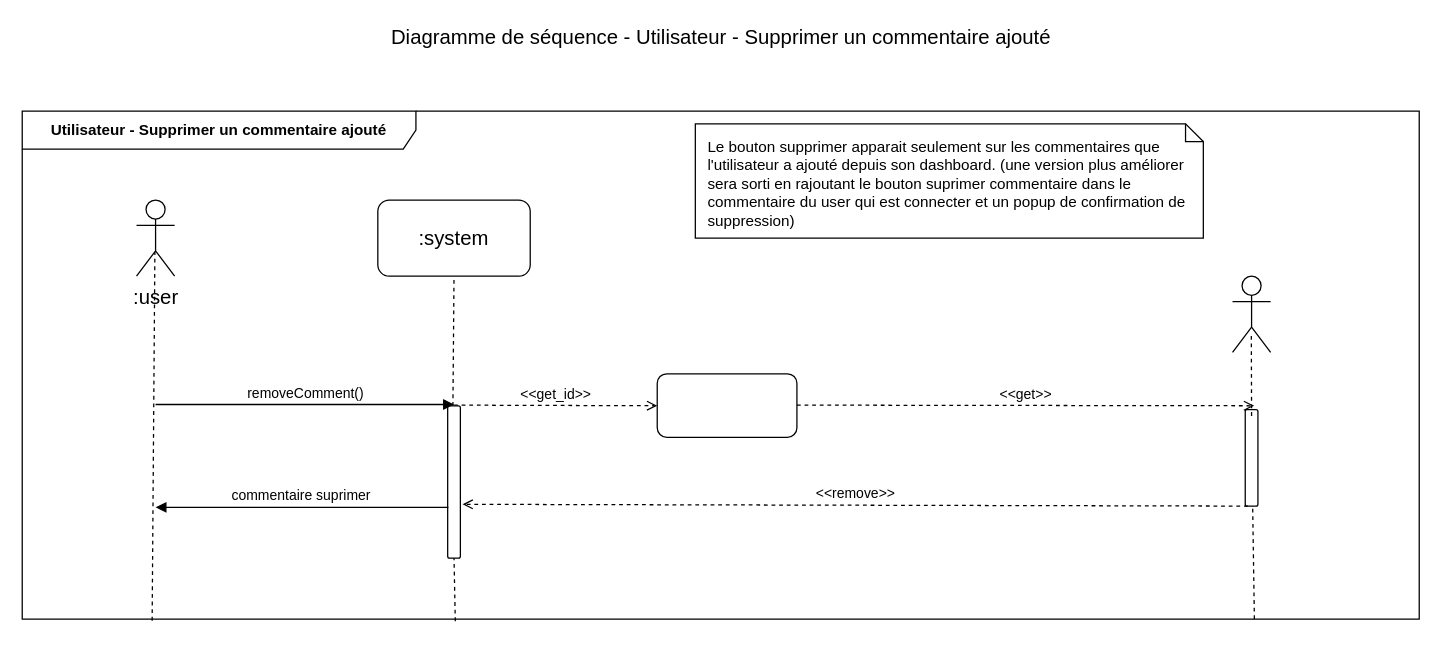
Some shapes in this 1441 by 645 pixel diagram are drawn without their labels. The centre of each missing label's shape, as x and y in pixels:
:bdd: the point at 1251,313
id_comment: the point at 726,404
